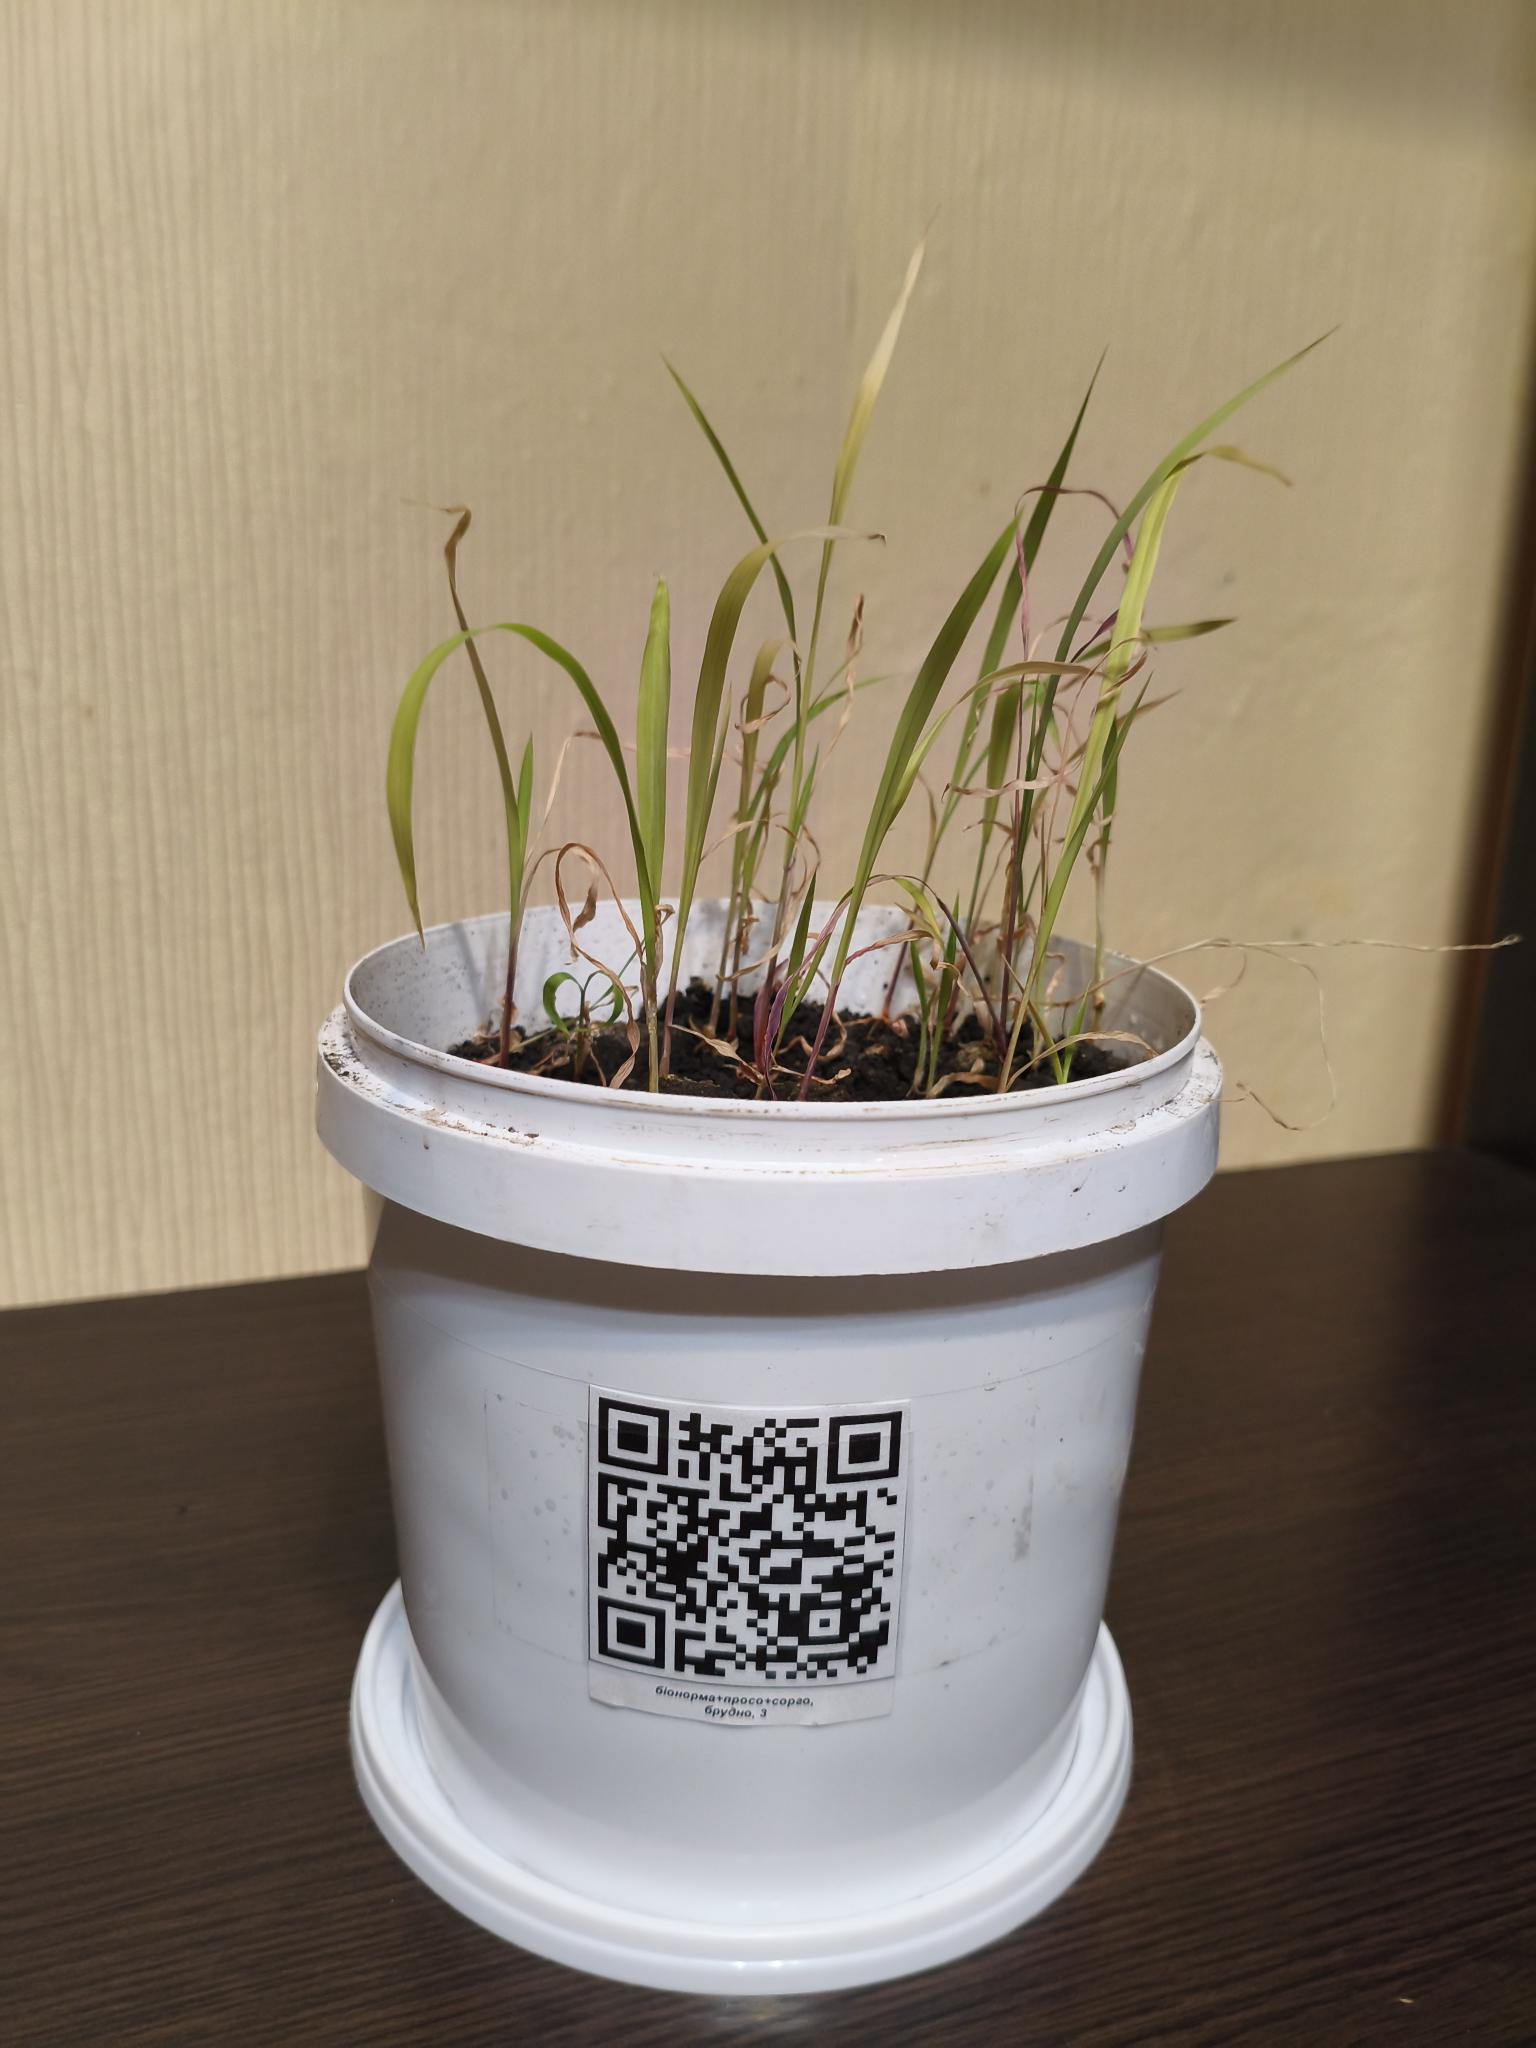container: (316, 898, 1223, 1996)
stem: (795, 897, 866, 1100), (995, 932, 1054, 1093), (876, 858, 934, 1016), (945, 843, 987, 1021), (755, 868, 792, 1037), (658, 910, 691, 1079), (499, 913, 526, 1071), (707, 900, 739, 1029), (1000, 856, 1025, 1022), (1091, 843, 1110, 1029), (728, 906, 749, 1032), (753, 1026, 789, 1098), (645, 963, 660, 1093)
